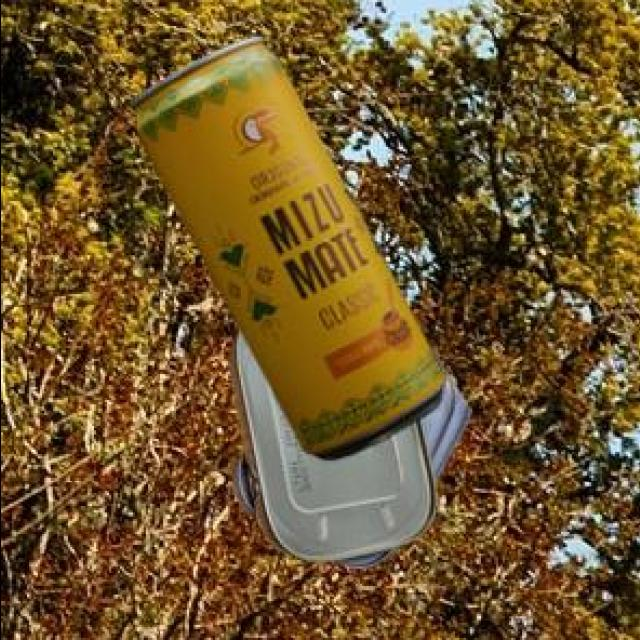logam: (135, 34, 449, 457), (232, 325, 472, 565)
